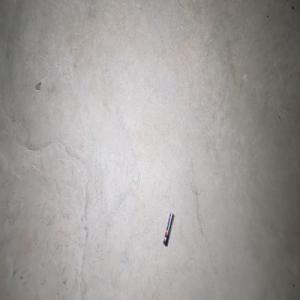Battery: (162, 211, 174, 246)
